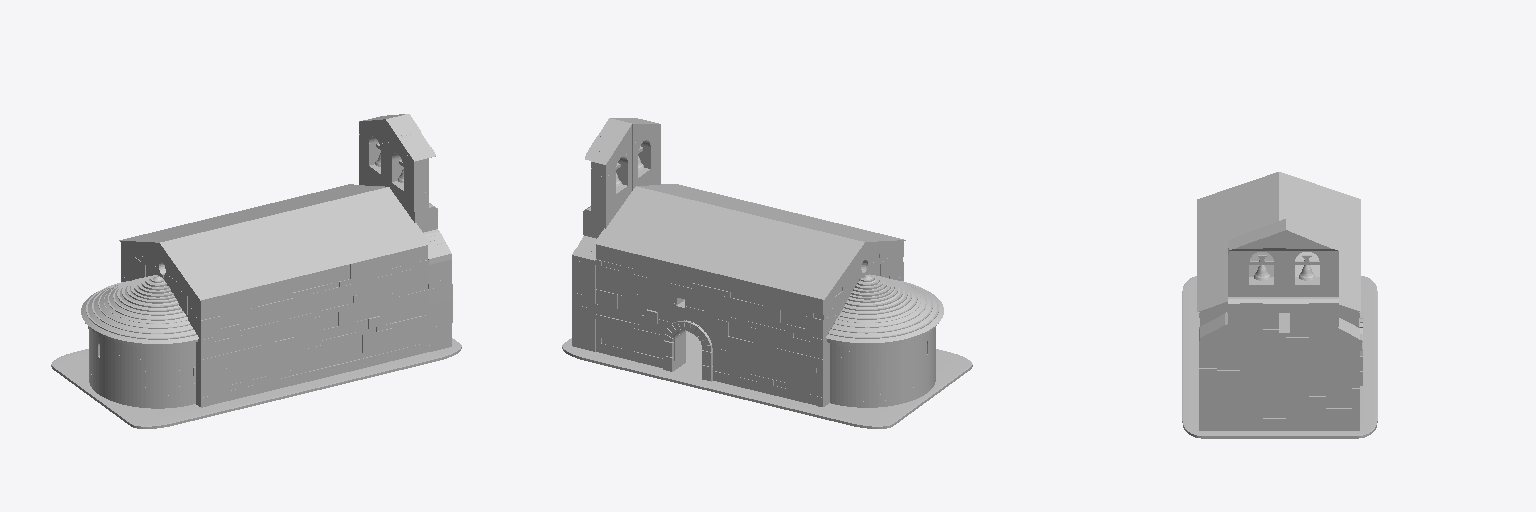
The model's file is ES_CAT_VDB_ermitadesantquircdedurro.obj.
3 renders of one model, left to right at view 1: azimuth 30°, elevation 25°; view 2: azimuth 150°, elevation 25°; view 3: azimuth 270°, elevation 25°, orthographic.
Parts seen in each view (by area): view 1: Ermita_De_Sant_Quirc_Durro; view 2: Ermita_De_Sant_Quirc_Durro; view 3: Ermita_De_Sant_Quirc_Durro.
Part boxes in pixels (x1,y1,x2,y2): Ermita_De_Sant_Quirc_Durro: (51, 114, 461, 428); Ermita_De_Sant_Quirc_Durro: (562, 118, 972, 428); Ermita_De_Sant_Quirc_Durro: (1182, 172, 1377, 438).
Bounding box in the file's own units: 112 × 65.98 × 57.1.